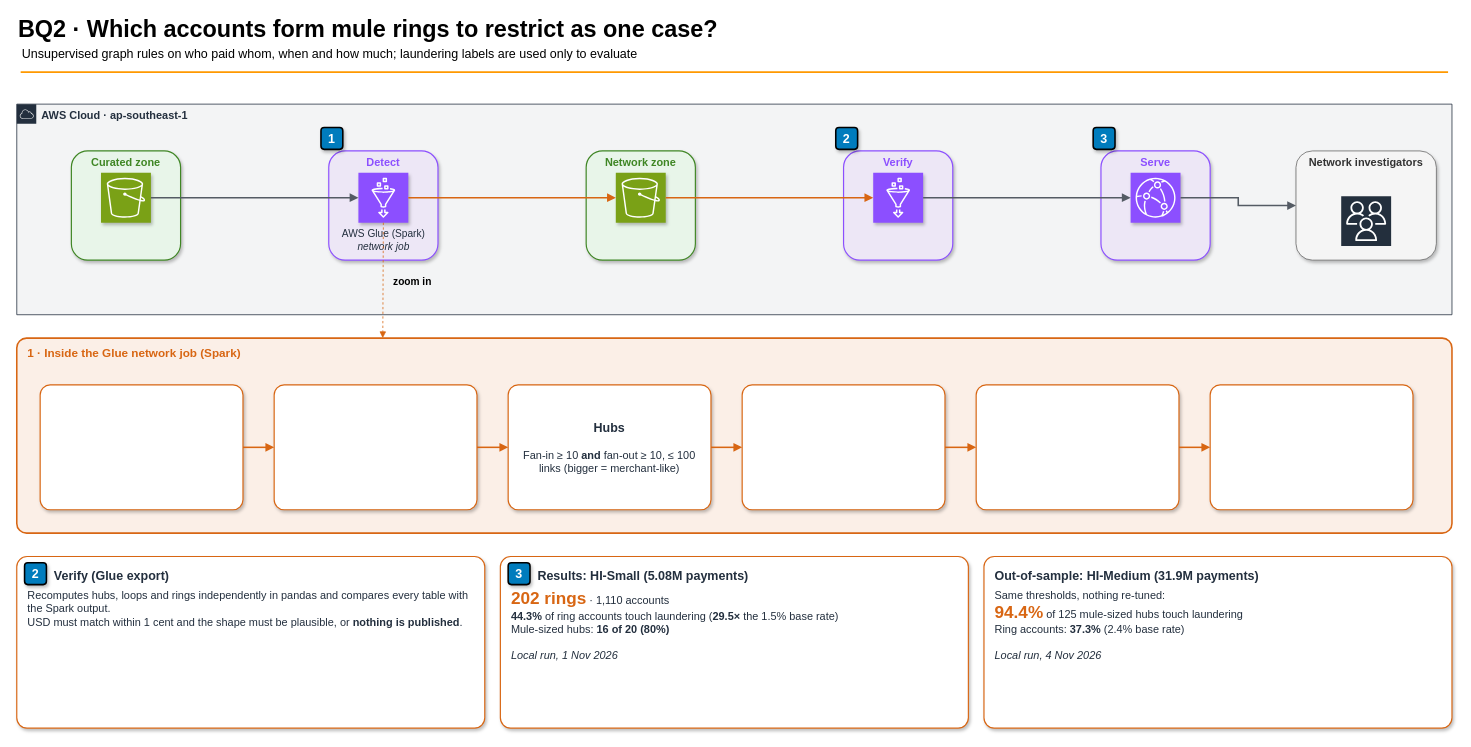
Image size: 1471x747. Some labels were removed from this diagram. The shapes that lost their labels are listed below. From the top down, each one's centre as x and y in pixels, then its label:
the point at 126,198: Amazon S3 Parquet by date
the point at 641,198: Amazon S3 hubs, loops, rings
the point at 898,198: AWS Glue export
the point at 1156,198: CloudFront dashboard
the point at 142,448: Link Merge repeated payments A→B into one directed link; drop self-transfers
the point at 376,448: Fan-in / out Count distinct senders into and receivers out of each account
the point at 844,448: Loops A → B → C → A in order within 7 days
the point at 1078,448: Rings Connected groups of ≥ 3 accounts (min-label propagation). 1 ring = 1 case
the point at 1312,448: Rank Hubs, then loops, then payments. Labels never change the order
